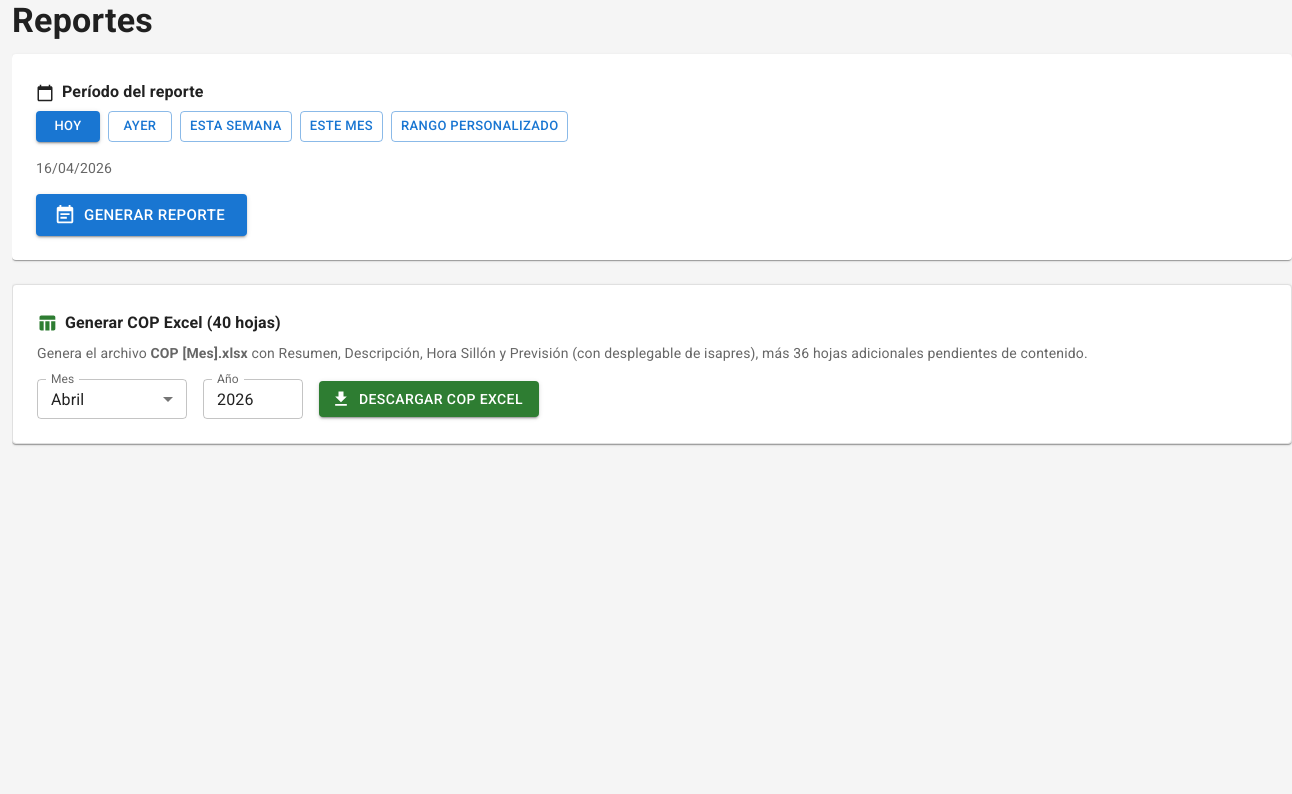
Test: Reportes › muestra resultados tras generar reporte
Click the button "Generar Reporte". click: coordinates (142, 215)
box: [36,194,247,236]
(page scrolled)
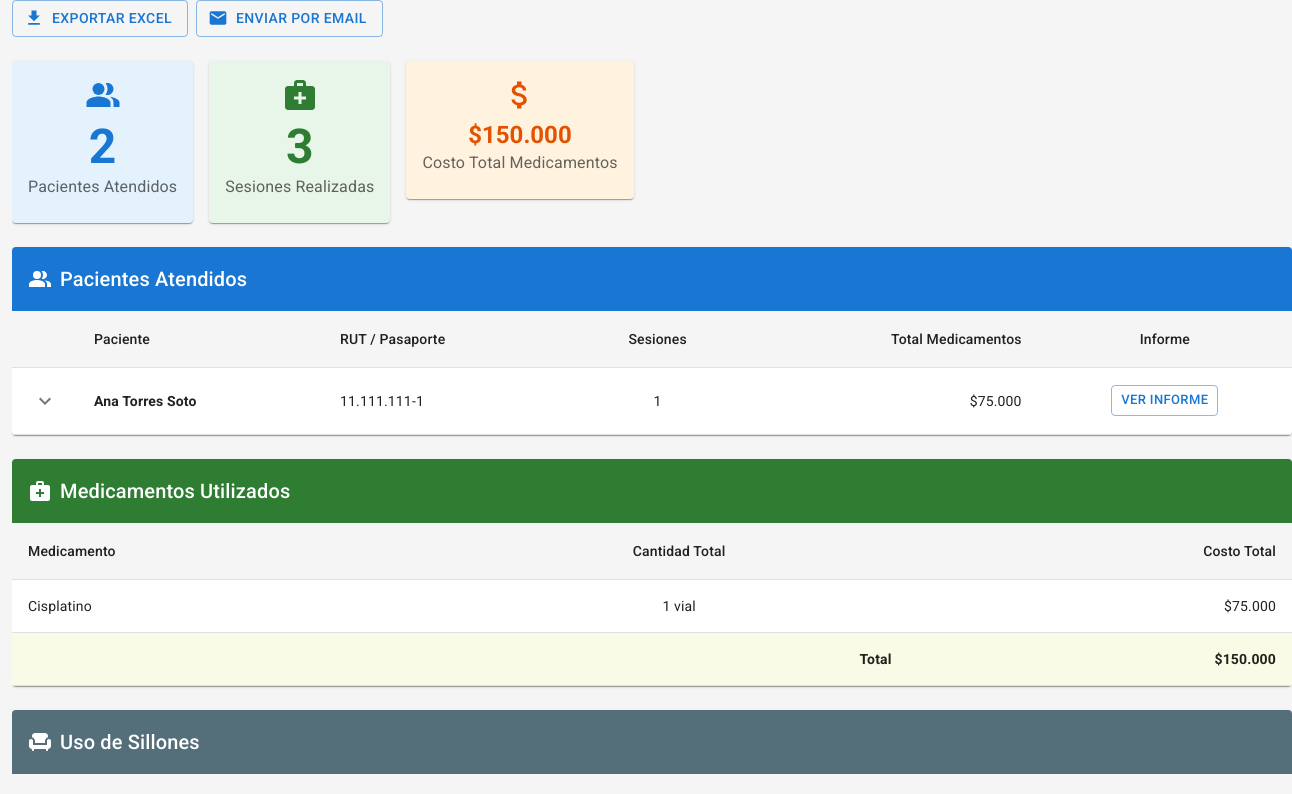
Now the text "Ana Torres Soto" is shown, box [94,393,197,409]
